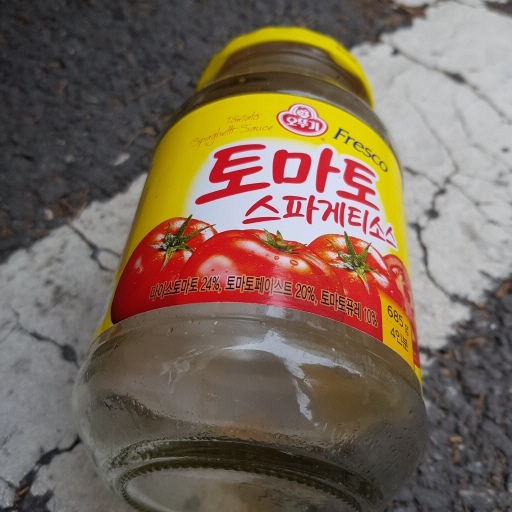Glass_5: (69, 25, 429, 510)
